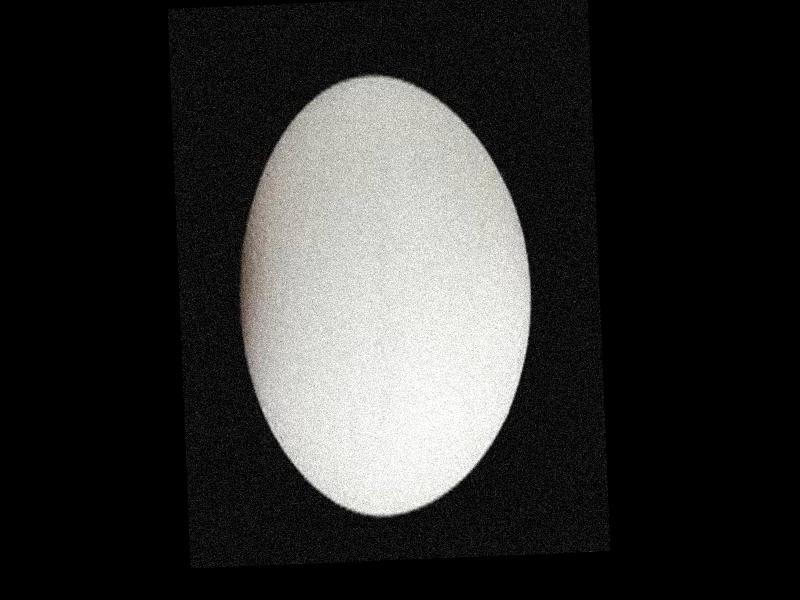Eggs: (229, 71, 538, 523)
